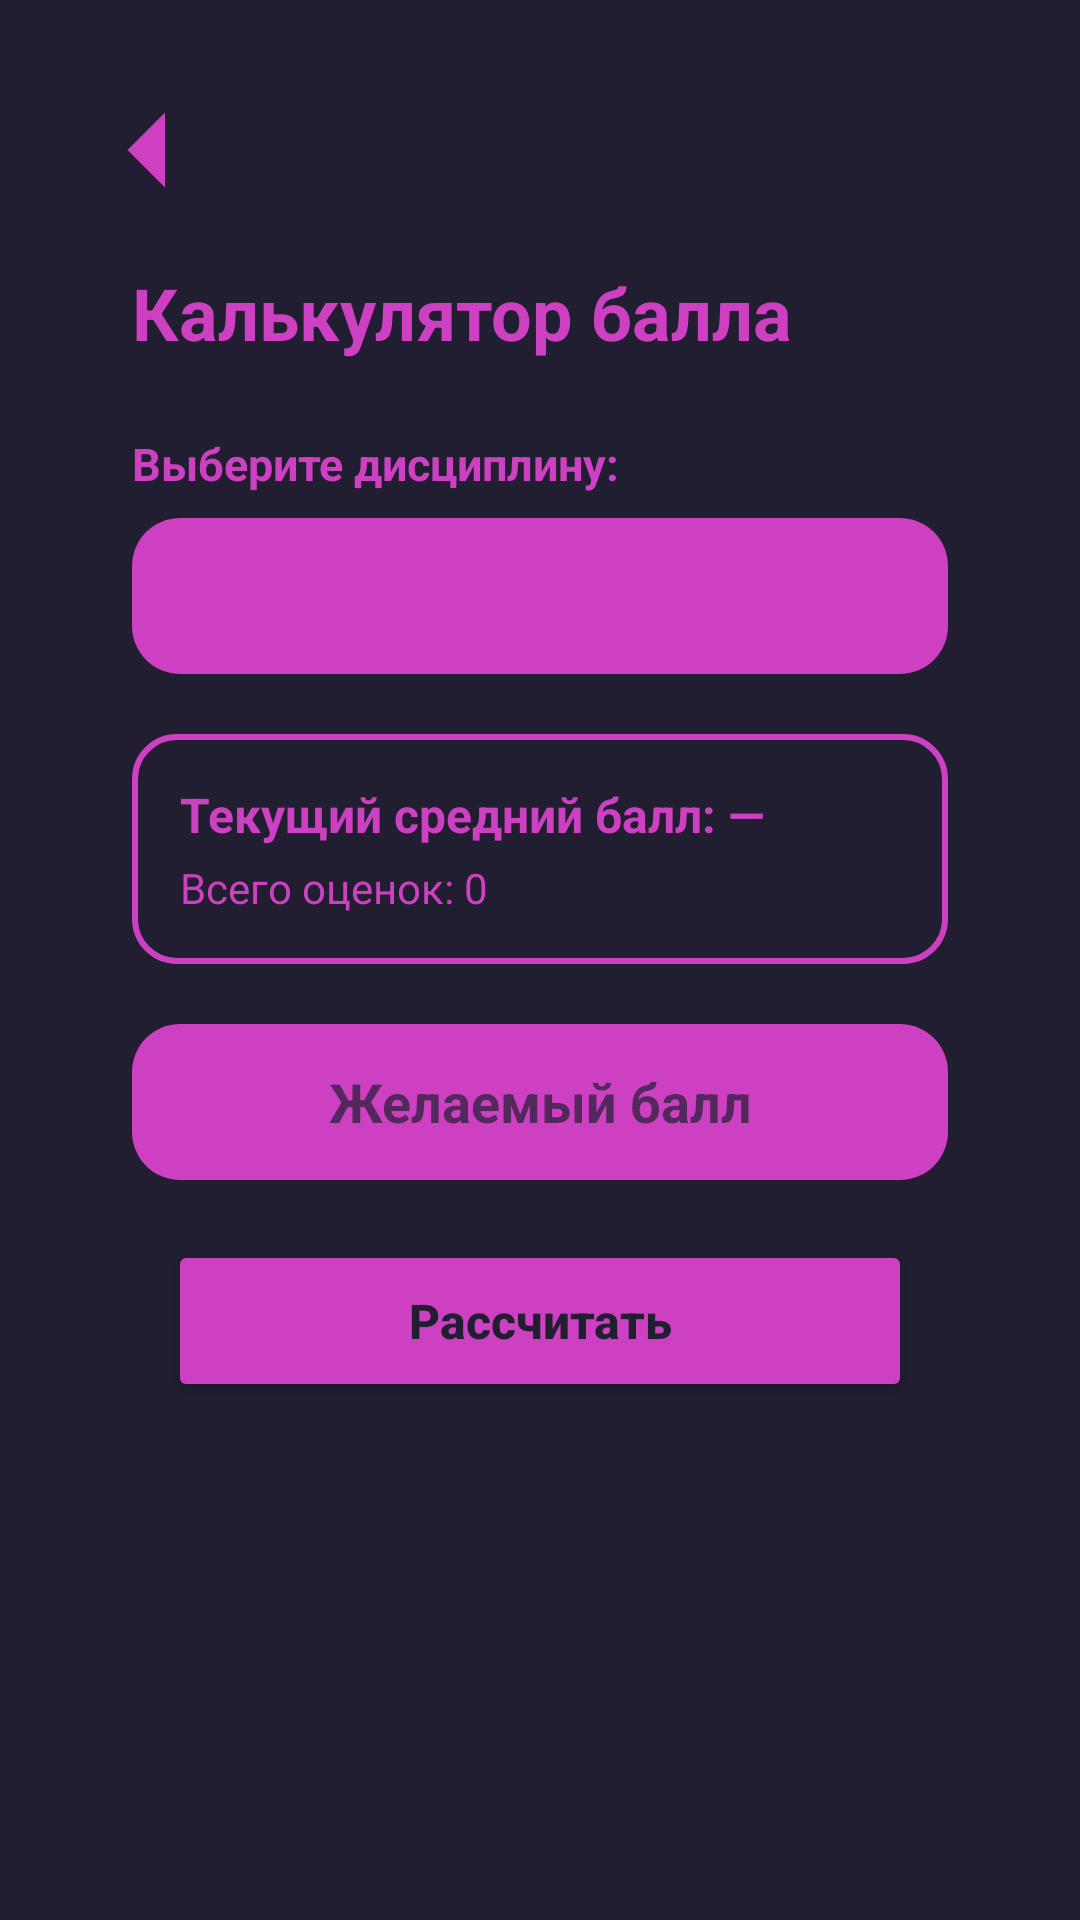

Icons on this 1080x1920 Android screen, each with the point to tap as point (x, y):
Назад: point (146, 150)
